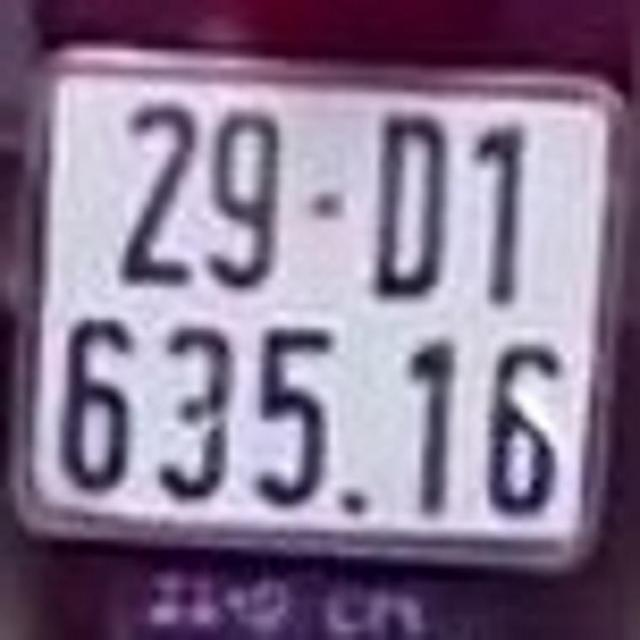1: (468, 119, 529, 308), (401, 332, 455, 516)
2: (117, 97, 195, 289)
3: (156, 322, 232, 497)
5: (256, 323, 332, 503)
6: (482, 338, 562, 521), (62, 314, 134, 493)
9: (208, 106, 284, 288)
D: (369, 104, 446, 299)
